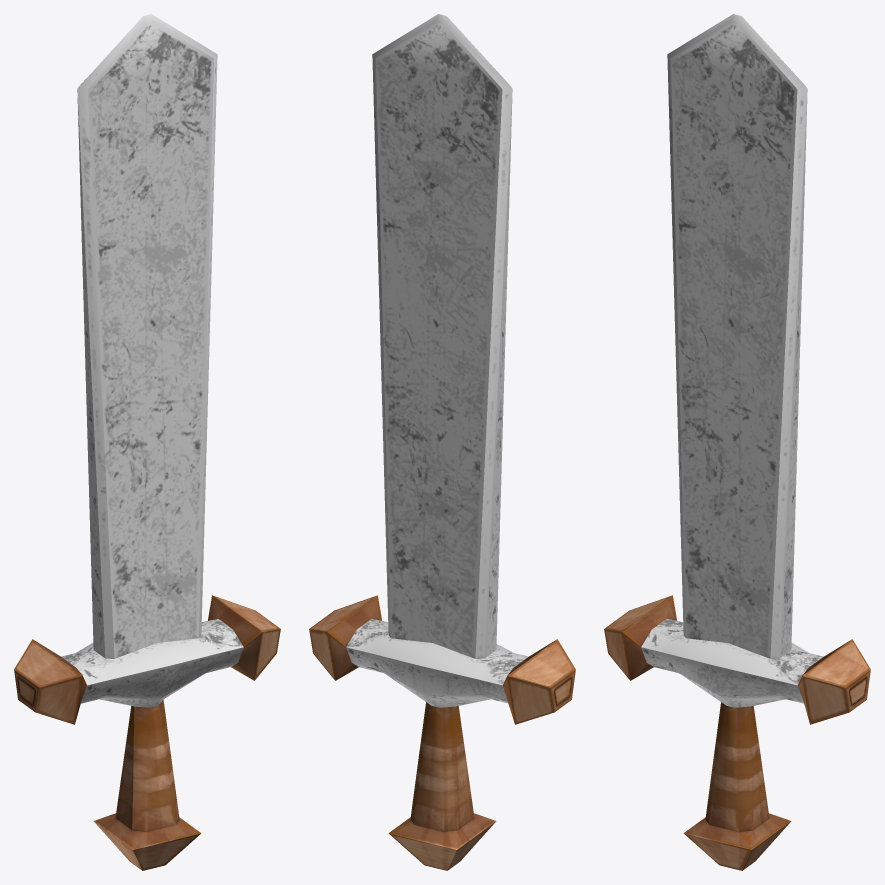
File: sword.glb
3 views of the same model, side by side, from view 1: azimuth 30°, elevation 25°; view 2: azimuth 150°, elevation 25°; view 3: azimuth 330°, elevation 25° (orthographic).
Parts seen in each view (by area): view 1: Sword; view 2: Sword; view 3: Sword.
Boxes of the visible parts, x1=… form: Sword: x1=14, y1=14, x2=280, y2=870; Sword: x1=309, y1=14, x2=575, y2=870; Sword: x1=604, y1=14, x2=870, y2=870.
Bounding box in the file's own units: 0.3437 × 1.15 × 0.1241.
1 material, 1 textured.
